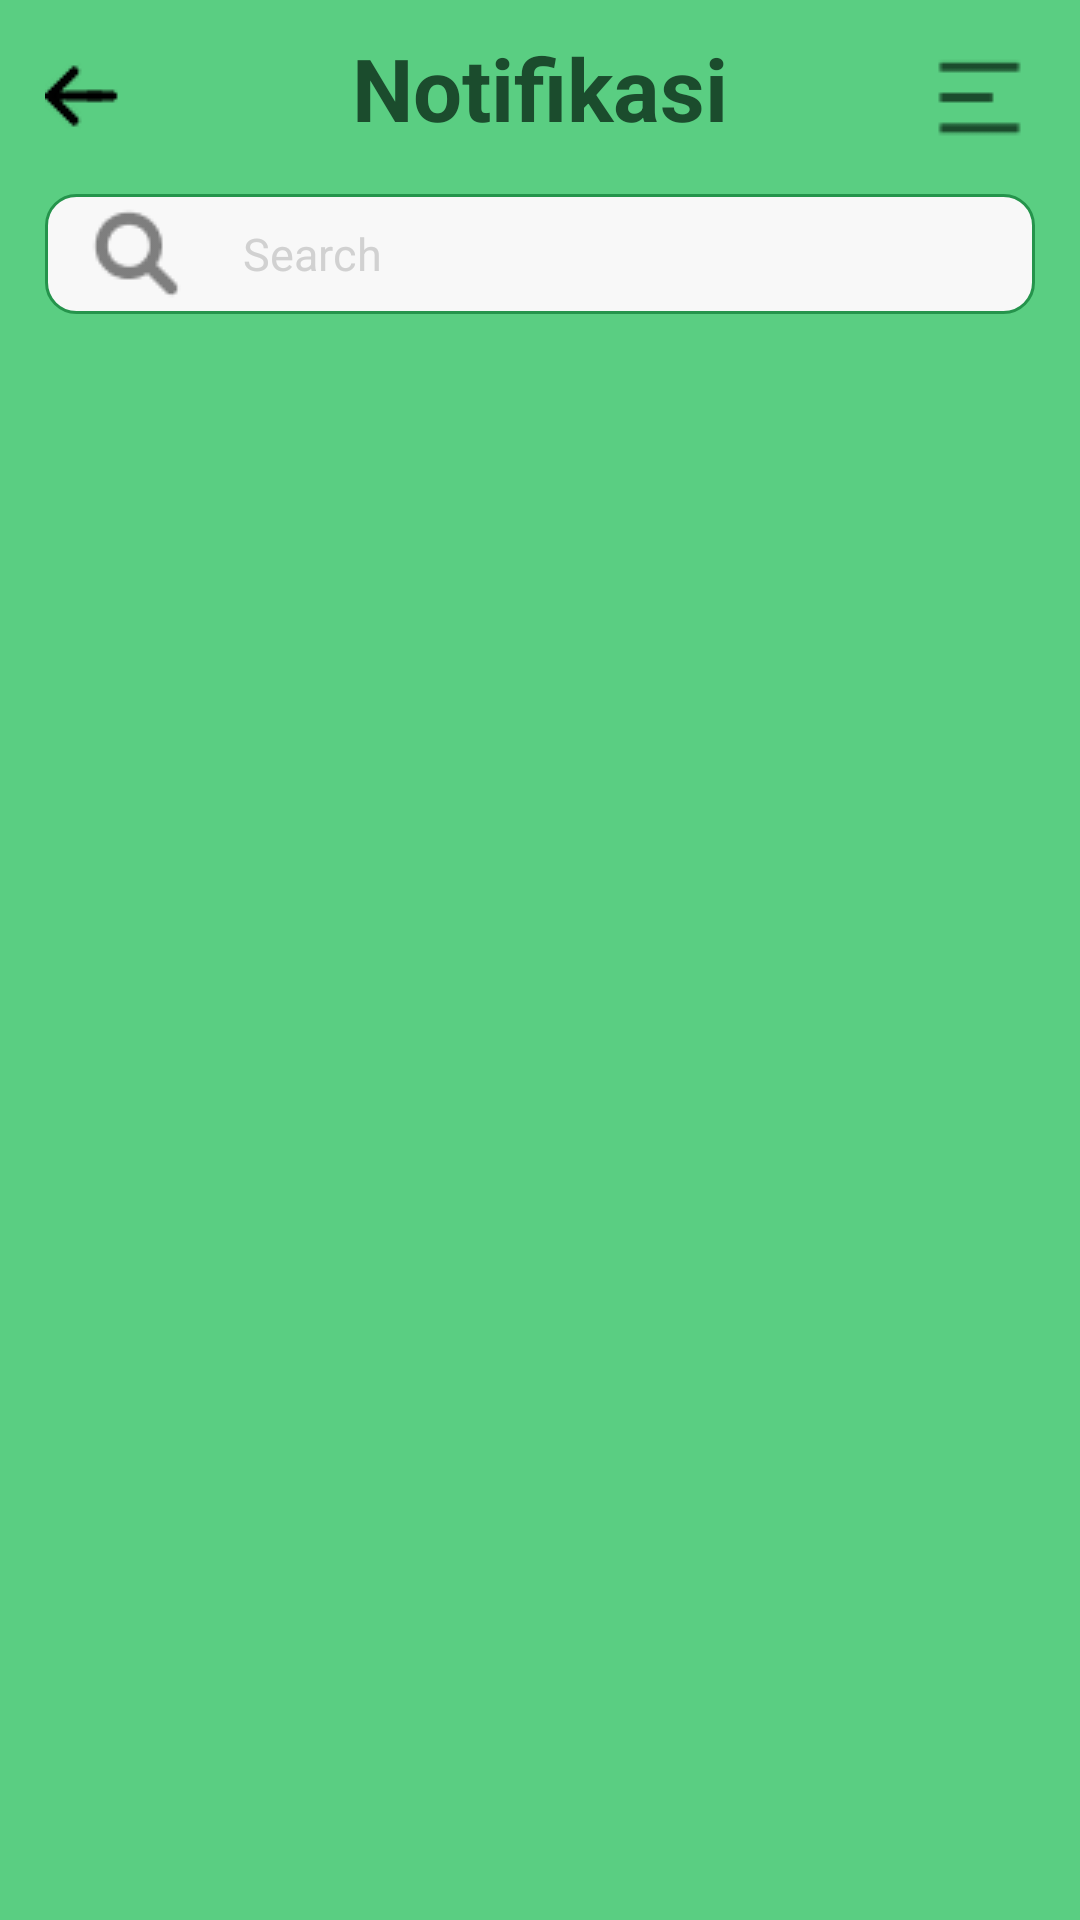

Screen size 1080px×1920px. Icon name, then its box in pixels as bbox=(x1, y1, x2, y2):
back: bbox=(45, 65, 118, 127)
